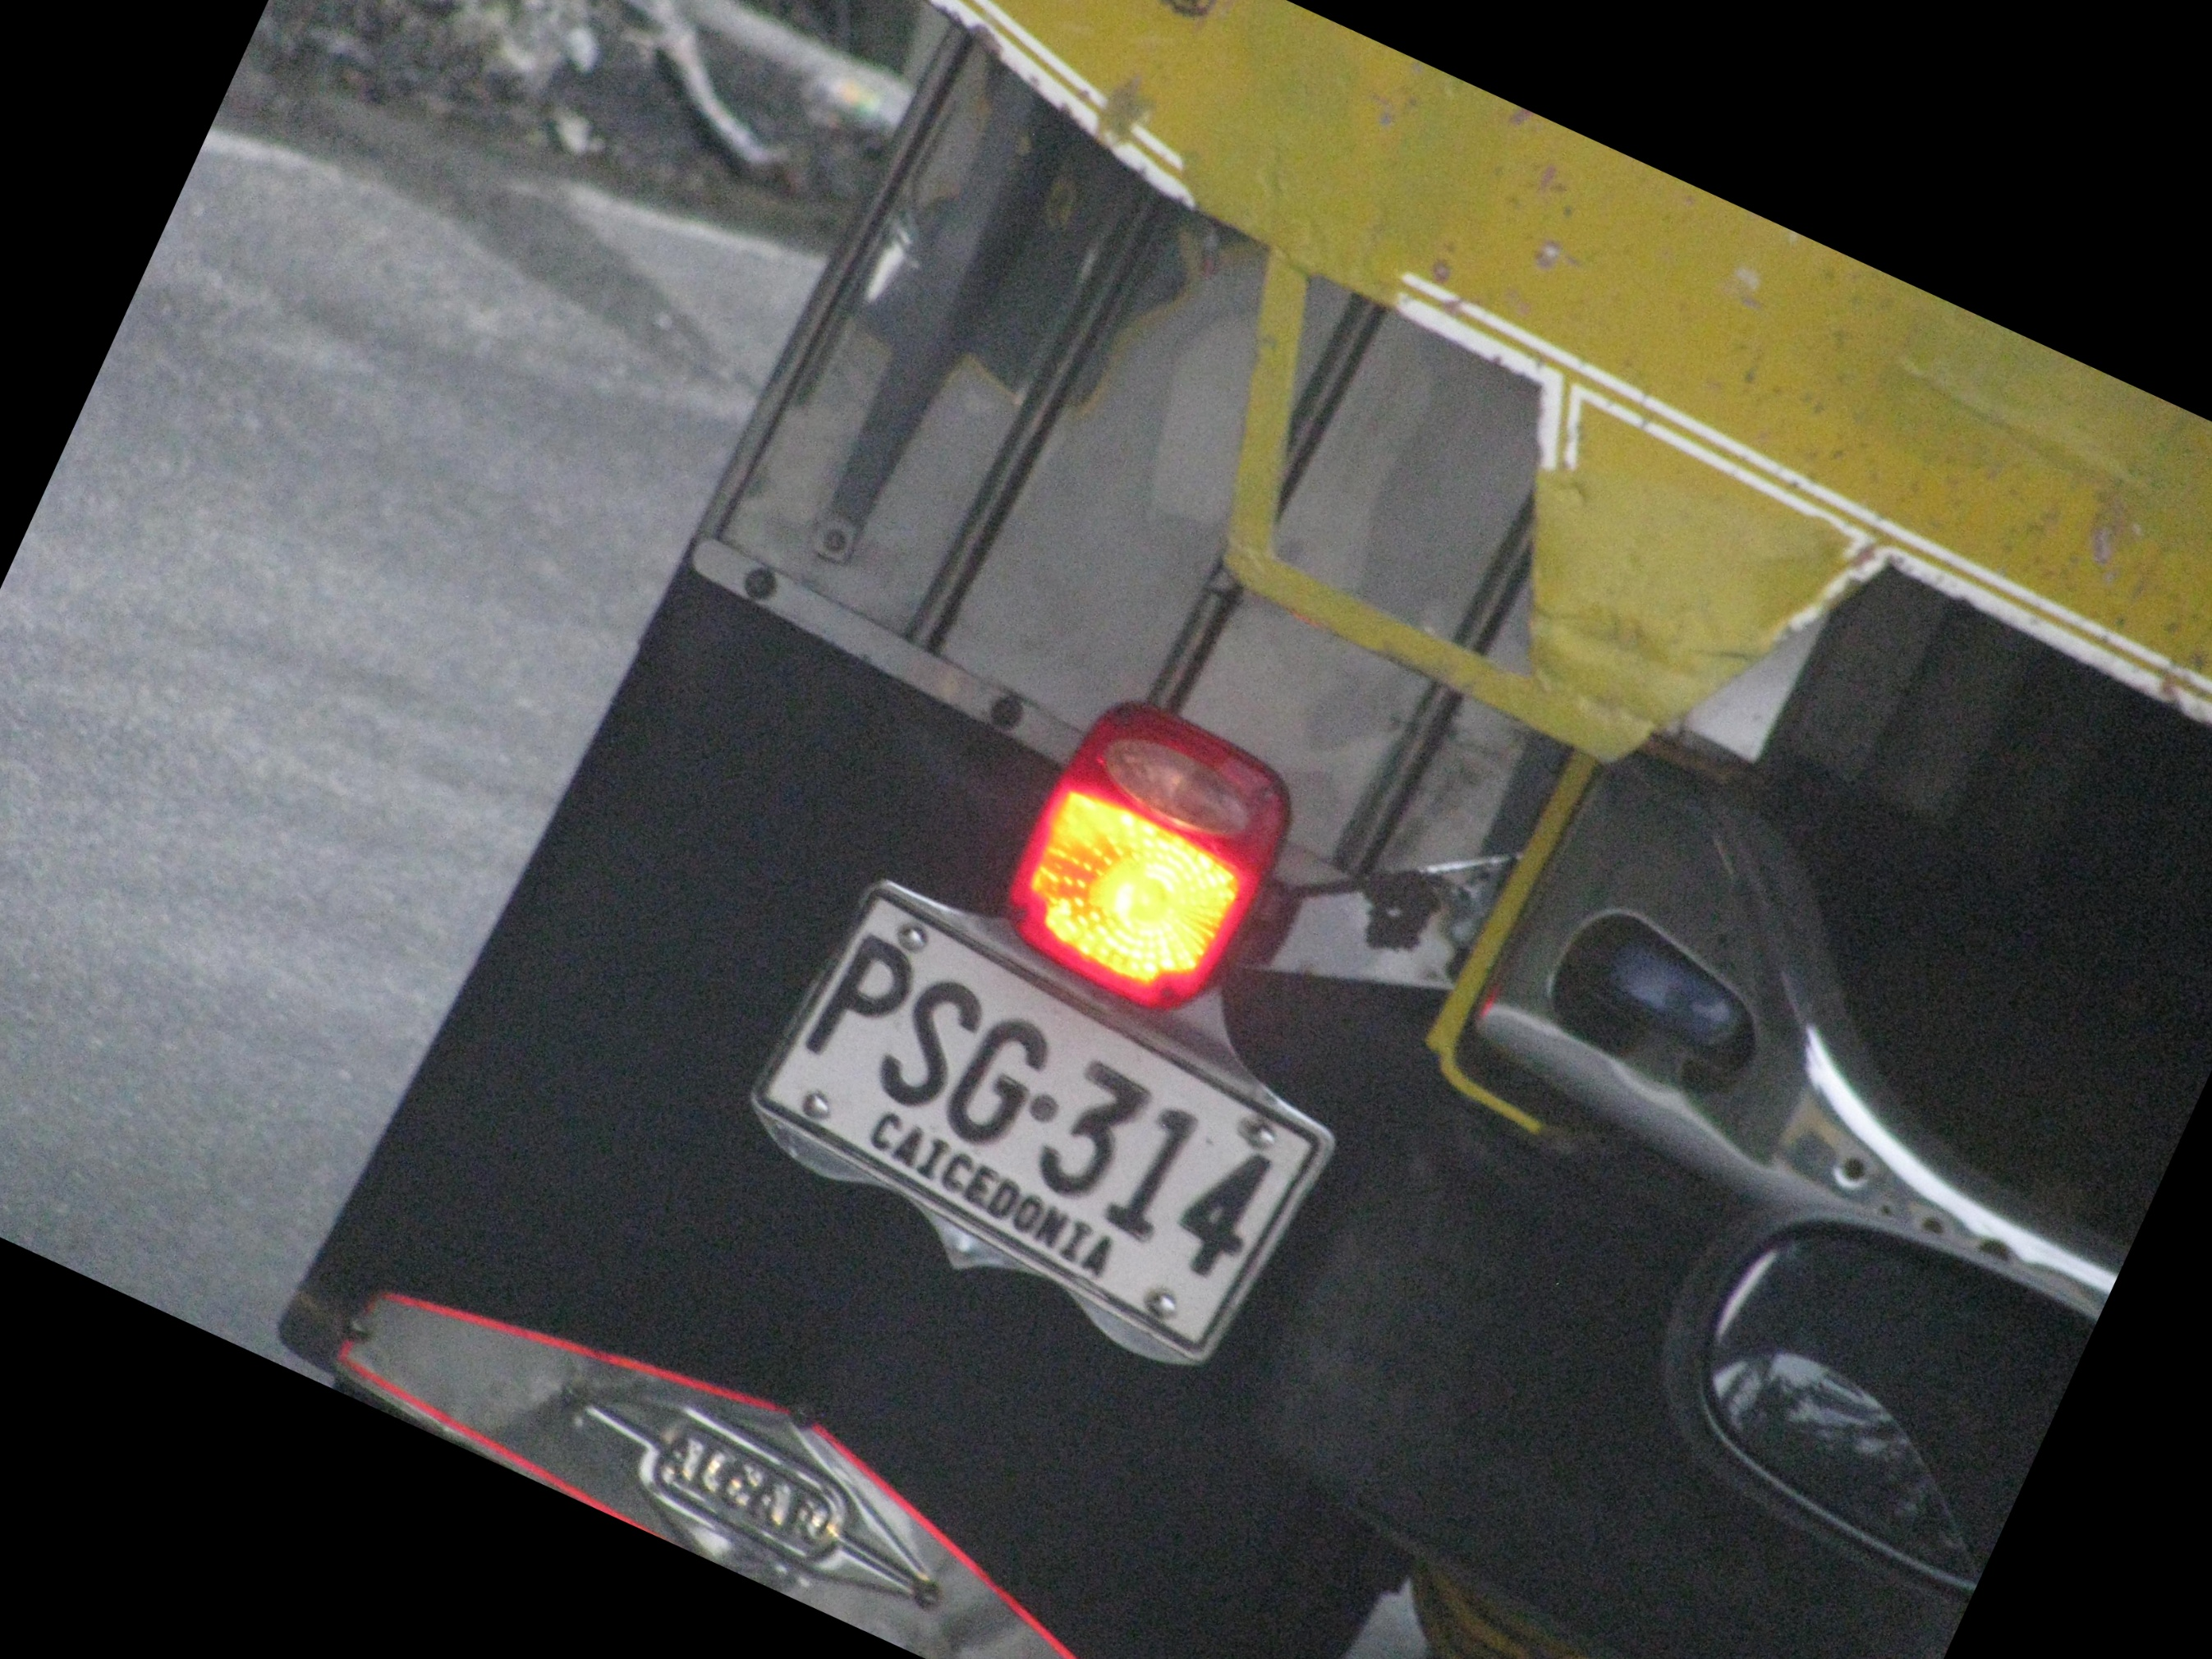placas: (710, 842, 1375, 1389)
